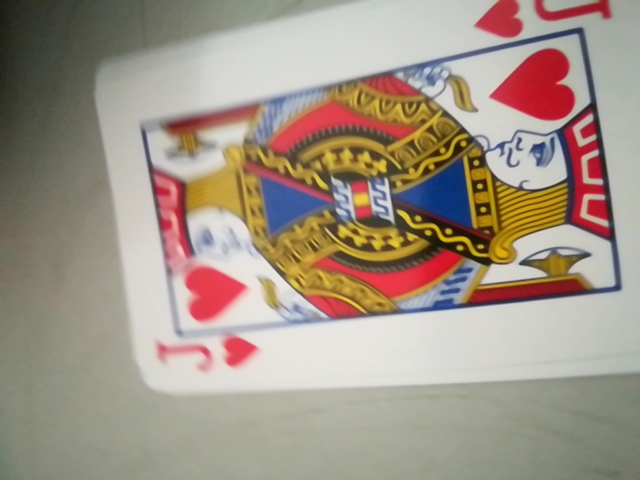hx j: (149, 327, 269, 387)
